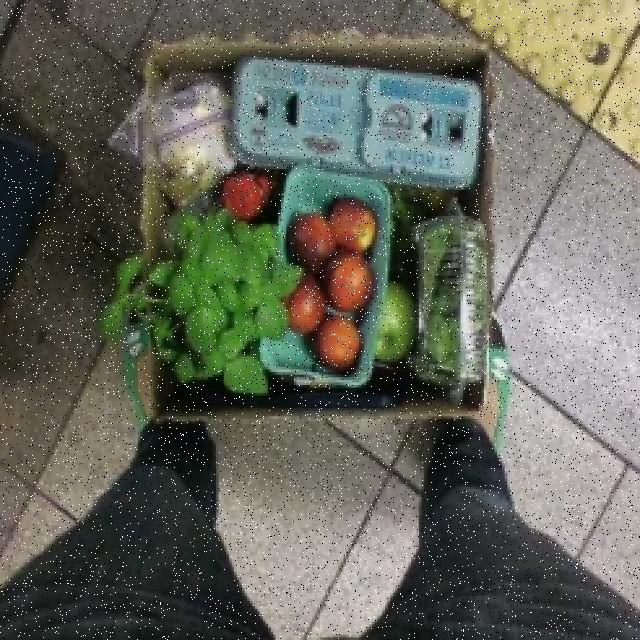box: (136, 33, 486, 430)
